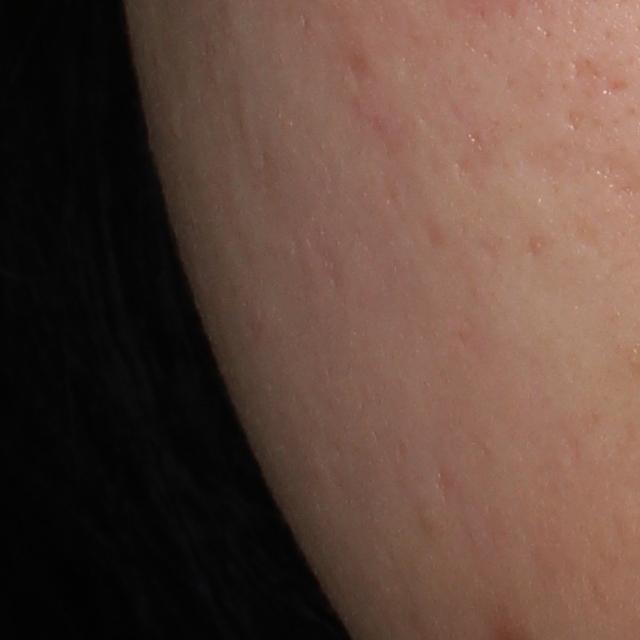atrophic_scar: (572, 217, 615, 268), (431, 467, 456, 503), (562, 107, 585, 133)
